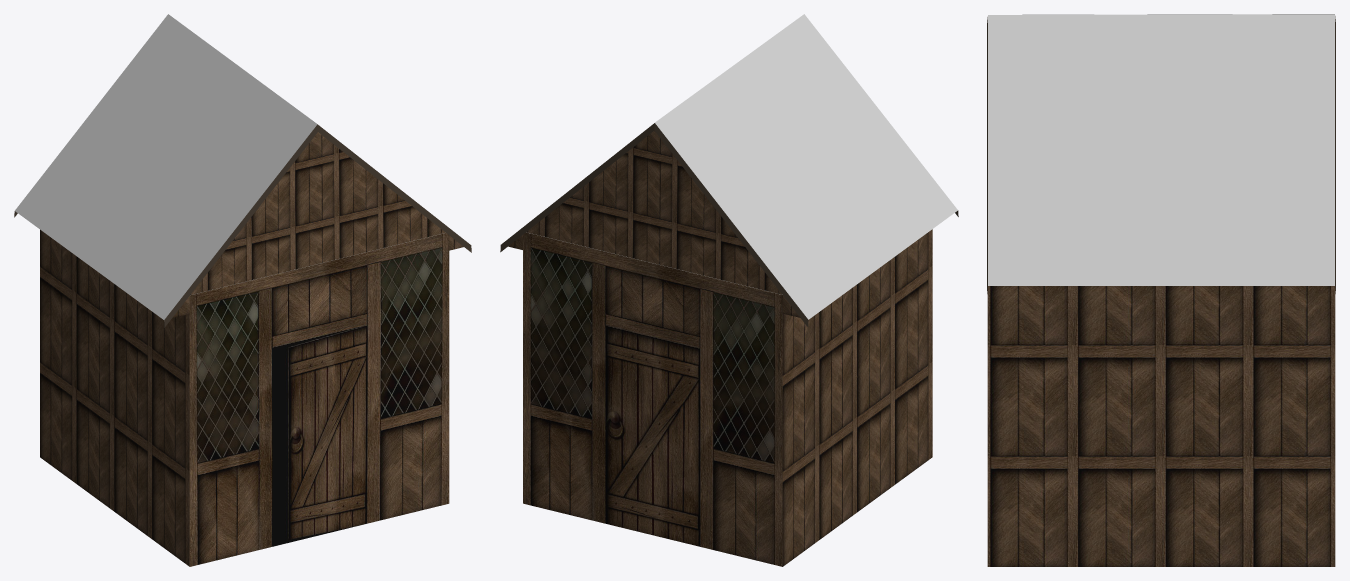
File: Casa.fbx
3 views of the same model, side by side, from view 1: azimuth 30°, elevation 25°; view 2: azimuth 150°, elevation 25°; view 3: azimuth 270°, elevation 25° (orthographic). The views are drawn at different scales.
Parts seen in each view (by area): view 1: pCube1, pCube2; view 2: pCube1, pCube2; view 3: pCube1, pCube2.
Boxes of the visible parts, <box> form: pCube1: <box>40,229,449,566</box>; pCube2: <box>14,14,471,327</box>; pCube1: <box>523,229,932,566</box>; pCube2: <box>500,14,958,326</box>; pCube1: <box>987,286,1335,566</box>; pCube2: <box>987,14,1335,293</box>.
Bounding box in the file's own units: 8.66 × 11.11 × 7.34.
